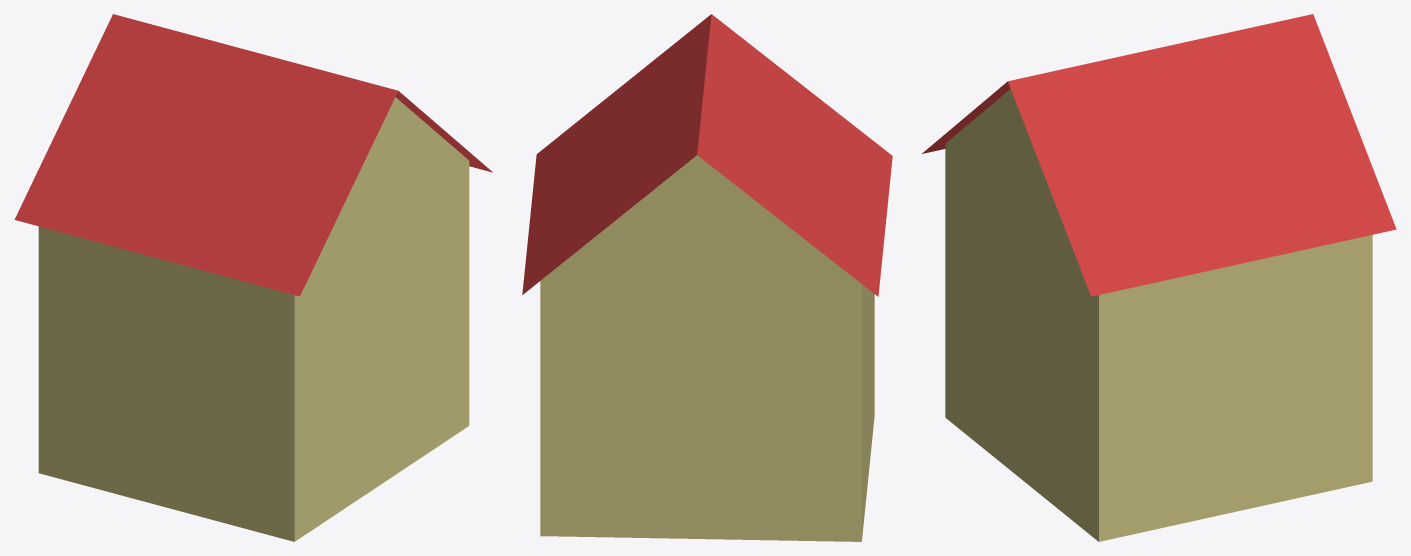
The picture shows the model from 3 angles, left to right: view 1: azimuth 30°, elevation 25°; view 2: azimuth 150°, elevation 25°; view 3: azimuth 270°, elevation 25°; orthographic projection. The views are drawn at different scales.
Size of the model in its own units: 13.57 by 13.29 by 12.45.
